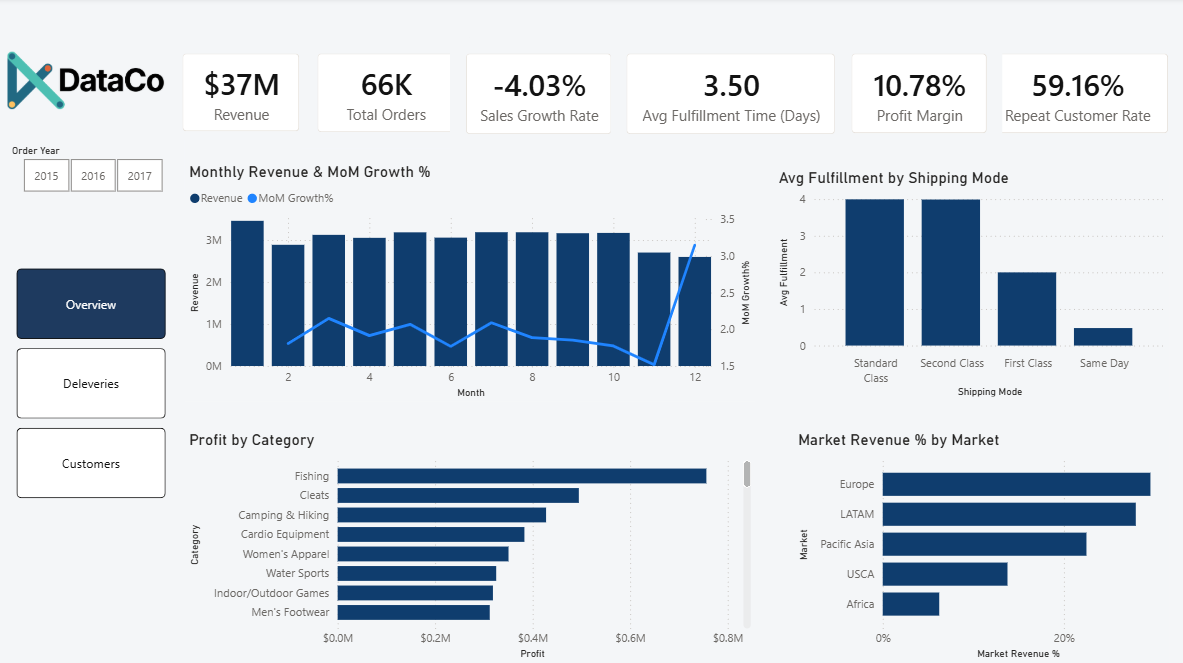

The page's visual inventory and layout, read from the dashboard file:
{"tool":"powerbi","page":{"name":"Overview","canvas":[1280,720],"ordinal":0},"visuals":[{"type":"image","box":[8.1,32.4,171.6,115],"z":1000},{"type":"cardVisual","fields":{"Data":["Dataset.Total Revenue"]},"box":[179.7,43.7,160.3,118.2],"z":2000},{"type":"cardVisual","fields":{"Data":["Dataset.Total Orders"]},"box":[325.5,43.7,181.4,119.8],"z":3000},{"type":"cardVisual","fields":{"Data":["Dataset.Sales Growth Rate"]},"box":[485.8,43.7,191.1,121.4],"z":4000},{"type":"cardVisual","fields":{"Data":["Dataset.Avg Fulfillment Days"]},"box":[659,43.7,259.1,121.4],"z":5000},{"type":"cardVisual","fields":{"Data":["Dataset.Repeat Customer Rate"]},"box":[1048.4,44.5,230.9,120.7],"z":6000},{"type":"cardVisual","fields":{"Data":["Dataset.Profit Margin"]},"box":[902.3,44.5,180,120.7],"z":7000},{"type":"lineClusteredColumnComboChart","title":"Monthly Revenue & MoM Growth %","fields":{"Category":["Dataset.Order Month"],"Y":["Dataset.Total Sales"],"Y2":["Dataset.Sales MoM %"]},"box":[198.4,177.6,616.1,258.9],"z":8000},{"type":"slicer","fields":{"Values":["Dataset.Order Year"]},"box":[0,153.8,199.2,63.1],"z":9000},{"type":"clusteredColumnChart","fields":{"Category":["Dataset.Shipping Mode"],"Y":["Dataset.Avg Fulfillment Days"]},"box":[835.3,185.2,427.1,251.3],"z":10000},{"type":"barChart","fields":{"Category":["Dataset.Category Name"],"Y":["Dataset.Total Profit"]},"box":[198.4,468.7,616.1,251.3],"z":11000},{"type":"clusteredBarChart","fields":{"Category":["Dataset.Market"],"Y":["Dataset.Market Revenue %"]},"box":[856.1,468.7,406.3,251.3],"z":12000},{"type":"pageNavigator","box":[17.8,293.1,161.9,250],"z":13000}]}

Visuals, with their boxes in screenshot pixels (x1, y1, x2, y2), scaled from the page's 1280x720 canvas onto the 1183x663 screenshot:
image: detection(7, 30, 166, 136)
cardVisual - Dataset.Total Revenue: detection(166, 40, 314, 149)
cardVisual - Dataset.Total Orders: detection(301, 40, 468, 151)
cardVisual - Dataset.Sales Growth Rate: detection(449, 40, 626, 152)
cardVisual - Dataset.Avg Fulfillment Days: detection(609, 40, 849, 152)
cardVisual - Dataset.Repeat Customer Rate: detection(969, 41, 1182, 152)
cardVisual - Dataset.Profit Margin: detection(834, 41, 1000, 152)
"Monthly Revenue & MoM Growth %" lineClusteredColumnComboChart: detection(183, 164, 753, 402)
slicer - Dataset.Order Year: detection(0, 142, 184, 200)
clusteredColumnChart - Dataset.Shipping Mode x Dataset.Avg Fulfillment Days: detection(772, 171, 1167, 402)
barChart - Dataset.Category Name x Dataset.Total Profit: detection(183, 432, 753, 662)
clusteredBarChart - Dataset.Market x Dataset.Market Revenue %: detection(791, 432, 1167, 662)
pageNavigator: detection(16, 270, 166, 500)
